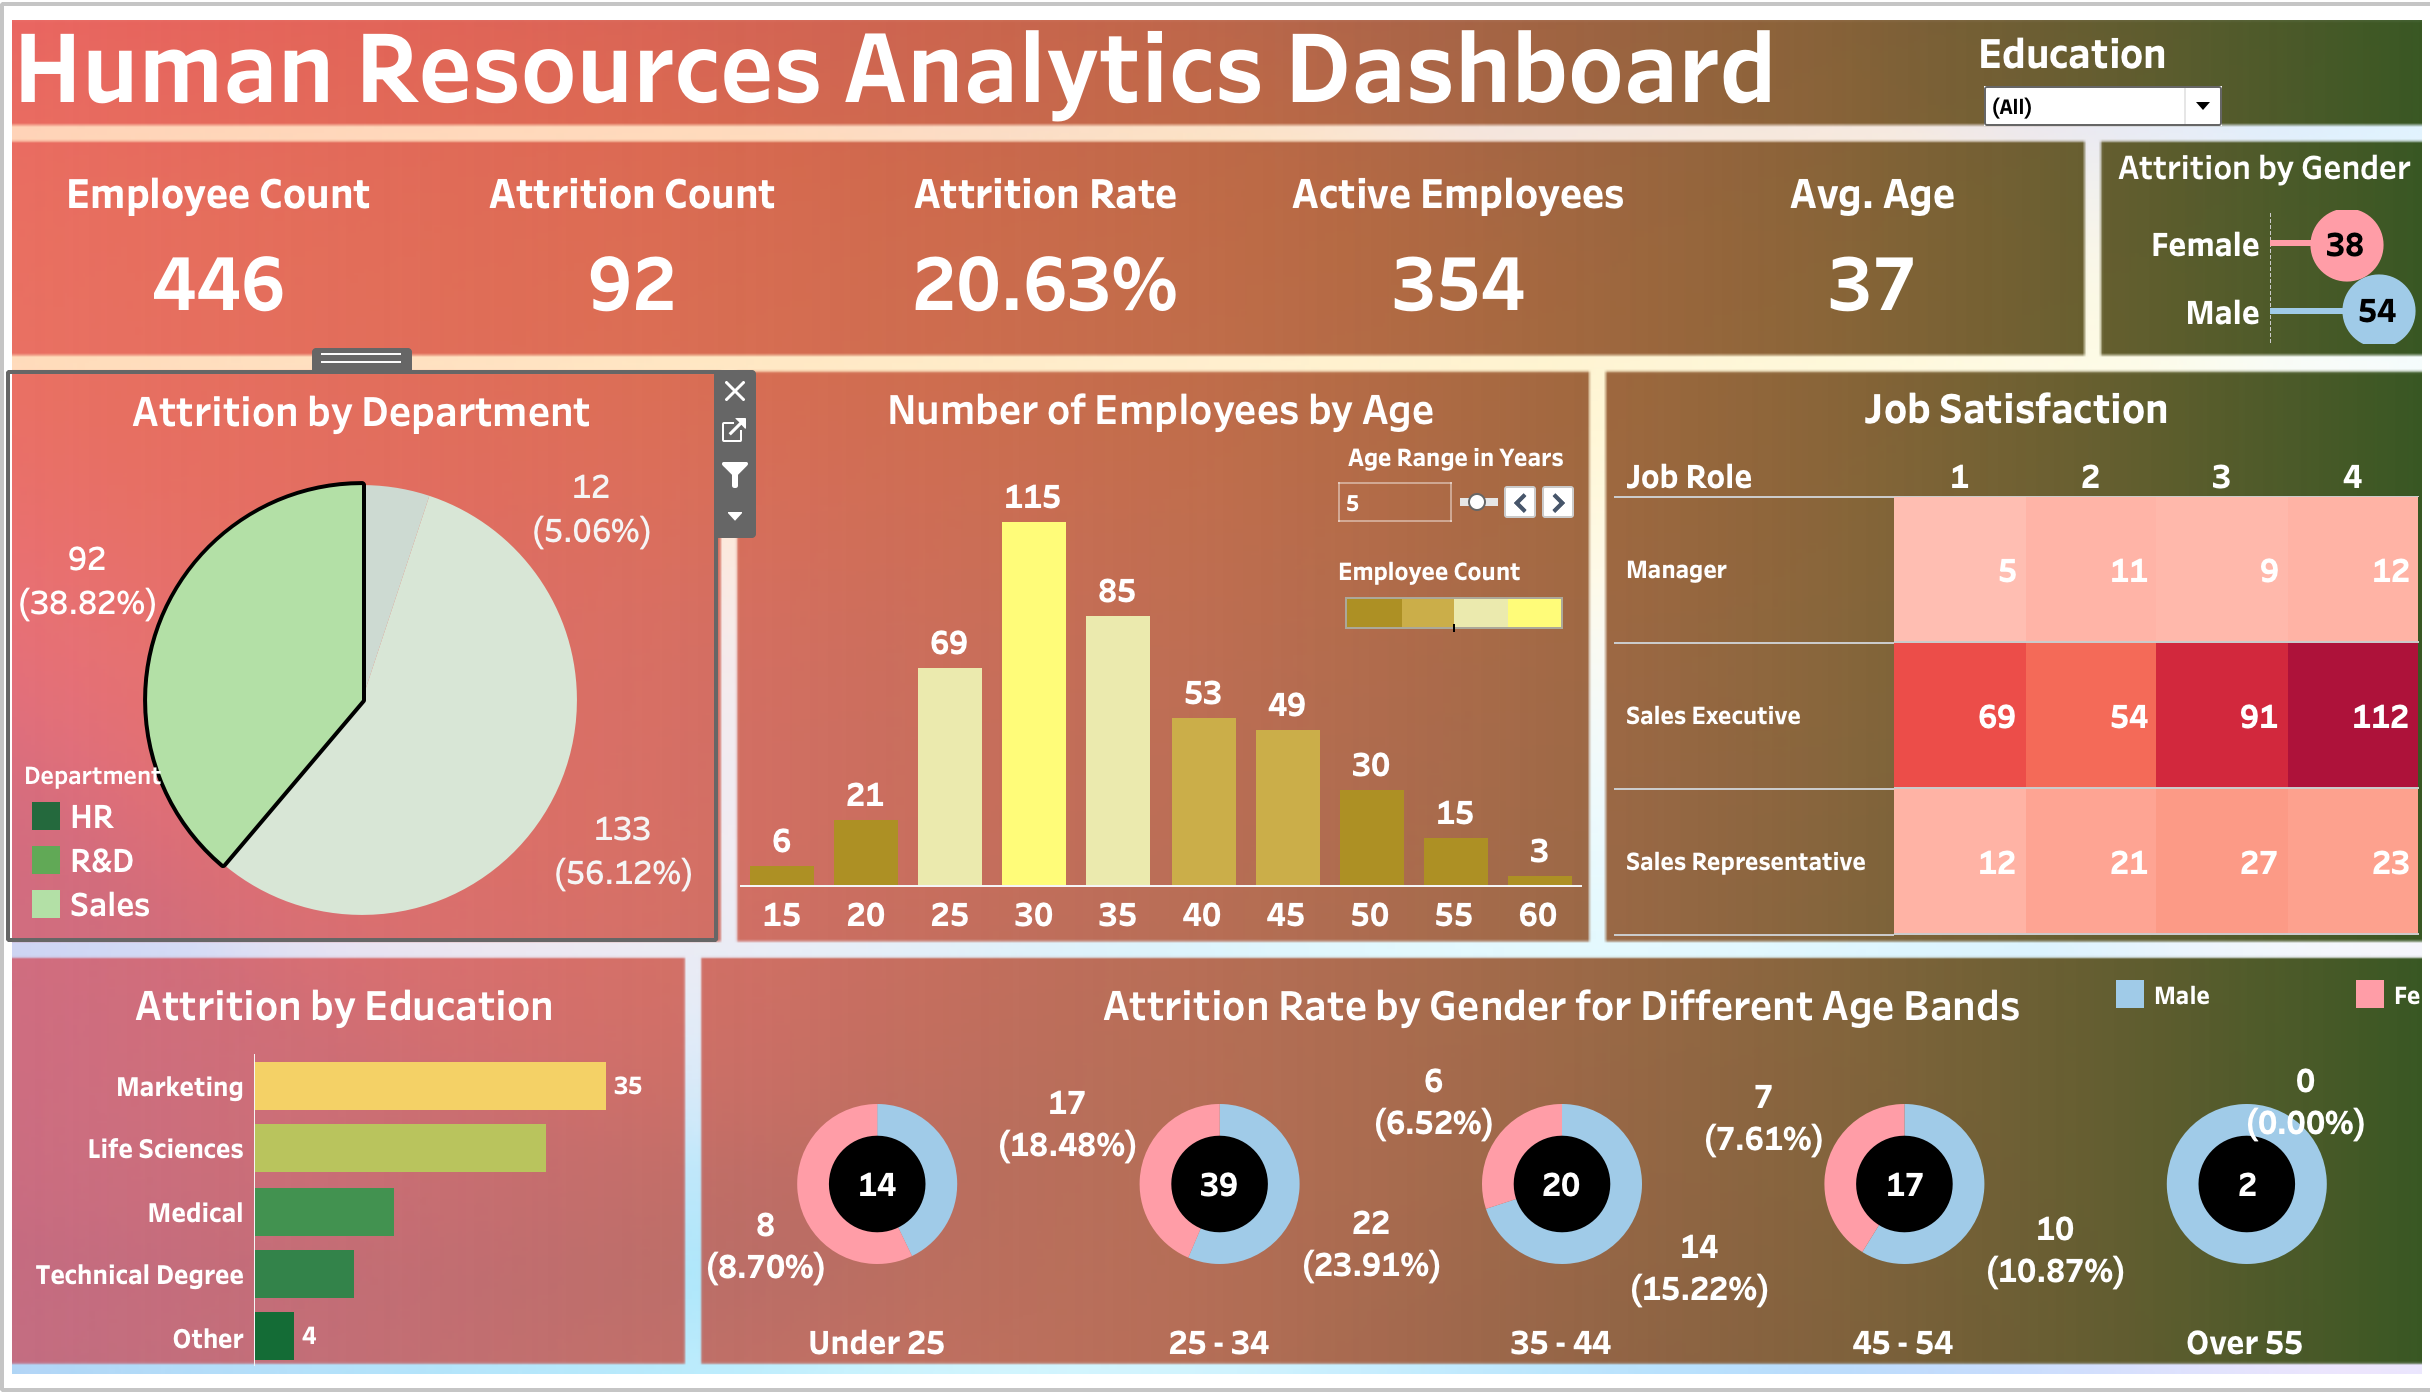

This screenshot's page, from the dashboard's own definition file:
{"tool":"tableau","page":{"name":"Human Resources Dashboard","canvas":[1580,900],"ordinal":0},"visuals":[{"type":"image","param":"/Users/chrisgaruba/Documents/PROJECTS/ORIGINAL PROJECT DATA/Data Analyst Portfol","box":[8,8,1564,884]},{"type":"text","box":[13,12,892,67]},{"type":"filter","title":"Attrition by Department","param":"[federated.16fzf2y1m25ecy1cqt7hm1aib45q].[none:Education:nk]","box":[1219,18,160,138]},{"type":"worksheet","title":"Attrition by Gender","mark":"Automatic","rows":["Gender"],"cols":["Calculation_1640436225959071744","Calculation_1640436225959071744"],"box":[1364,93,201,132]},{"type":"worksheet","title":"KPI","mark":"Automatic","box":[16,94,1329,131]},{"type":"worksheet","title":"Number of Employees by Age","mark":"Automatic","rows":["Employee Count"],"cols":["Age (bin)"],"box":[484,243,541,360]},{"type":"worksheet","title":"Job Satisfaction","mark":"Square","rows":["Job Role"],"cols":["Job Satisfaction"],"box":[1045,243,518,359]},{"type":"worksheet","title":"Attrition by Department","mark":"Pie","box":[14,244,453,360]},{"type":"parameter","param":"[Parameters].[Parameter 1]","box":[864,287,160,67]},{"type":"legend","title":"Number of Employees by Age","param":"[federated.16fzf2y1m25ecy1cqt7hm1aib45q].[sum:Employee Count:qk]","box":[868,359,150,52]},{"type":"legend","title":"Attrition by Department","param":"[federated.16fzf2y1m25ecy1cqt7hm1aib45q].[none:Department:nk]","box":[19,525,140,78]},{"type":"worksheet","title":"Attrition by Education","mark":"Automatic","rows":["Education Field"],"cols":["Calculation_1640436225959071744"],"box":[17,622,425,254]},{"type":"worksheet","title":"Attrition Rate by Gender for Different Age Bands","mark":"Pie","rows":["Calculation_1640436226023108614","Calculation_1640436226023129096"],"cols":["CF_age band"],"box":[462,622,1101,253]}]}

Visuals, with their boxes in screenshot pixels (x1, y1, x2, y2), scaled from the page's 1580x900 canvas onto the 2430x1394 screenshot:
image: left=12, top=12, right=2418, bottom=1382
text: left=20, top=19, right=1392, bottom=122
"Attrition by Department" filter: left=1875, top=28, right=2121, bottom=242
"Attrition by Gender" worksheet: left=2098, top=144, right=2407, bottom=348
"KPI" worksheet: left=25, top=146, right=2069, bottom=348
"Number of Employees by Age" worksheet: left=744, top=376, right=1576, bottom=934
"Job Satisfaction" worksheet (Square marks): left=1607, top=376, right=2404, bottom=932
"Attrition by Department" worksheet (Pie marks): left=22, top=378, right=718, bottom=936
parameter: left=1329, top=445, right=1575, bottom=548
"Number of Employees by Age" legend: left=1335, top=556, right=1566, bottom=637
"Attrition by Department" legend: left=29, top=813, right=245, bottom=934
"Attrition by Education" worksheet: left=26, top=963, right=680, bottom=1357
"Attrition Rate by Gender for Different Age Bands" worksheet (Pie marks): left=711, top=963, right=2404, bottom=1355
